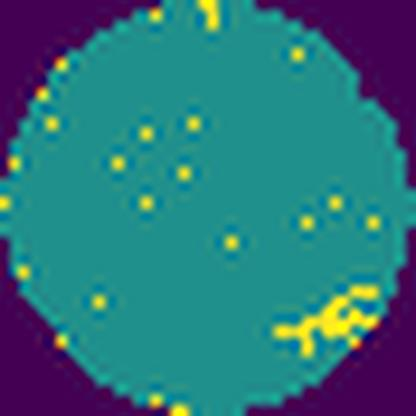Loc: (272, 278, 382, 354)
